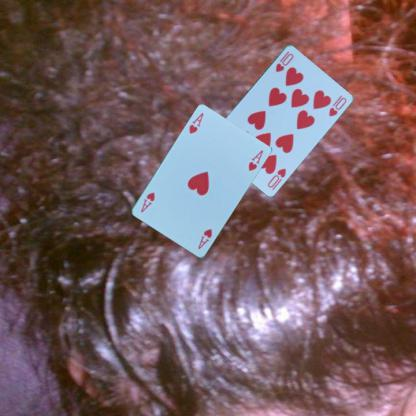10h: (272, 48, 294, 73), (265, 165, 287, 189)
Ah: (187, 110, 205, 136), (195, 226, 213, 251)
